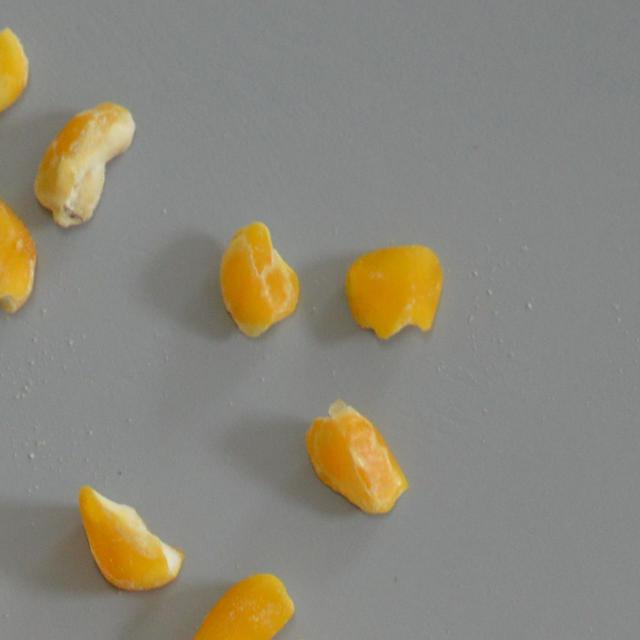estandar: (76, 479, 184, 595), (341, 245, 443, 340), (176, 570, 297, 640), (0, 25, 27, 135)
pelicula: (192, 232, 311, 327), (312, 398, 392, 526)
punto_negro: (30, 99, 136, 228), (0, 188, 38, 316)
